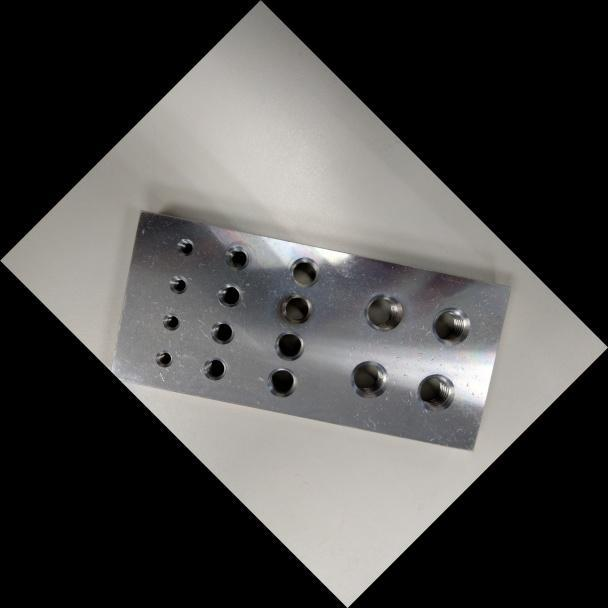hole: (339, 351, 397, 408), (422, 298, 479, 355), (407, 364, 463, 420), (355, 285, 410, 340), (273, 286, 319, 331), (266, 323, 311, 368), (259, 360, 304, 405), (282, 250, 326, 294), (210, 276, 248, 313), (218, 240, 254, 276), (204, 314, 240, 350), (196, 351, 232, 387), (163, 270, 193, 299), (171, 233, 199, 261), (149, 345, 177, 372), (157, 308, 184, 335)
